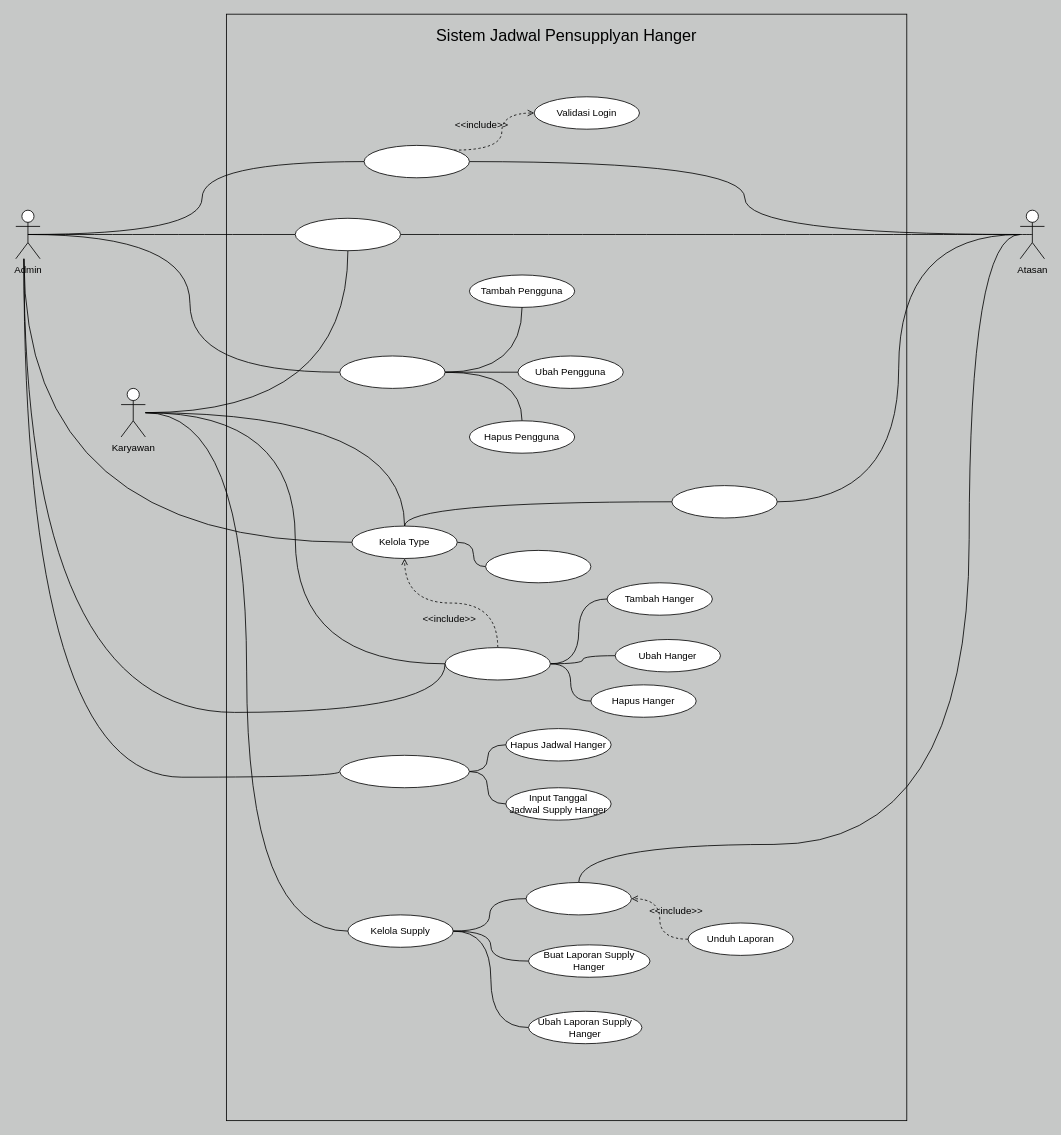
The diagram is 1061 pixels wide and 1135 high, and some of its shapes have lost their labels. Here are the shapes that lost their labels. From the top down, the centre of each, then its label:
At point (416, 161): "Login".
At point (347, 234): "Logout".
At point (392, 371): "Kelola Pengguna".
At point (724, 501): "Daftar Type".
At point (538, 566): "Ubah Type".
At point (497, 663): "Kelola Hanger".
At point (404, 771): "Kelola Jadwal Supply Hanger".
At point (578, 898): "Laporan Data Supply Hanger".
